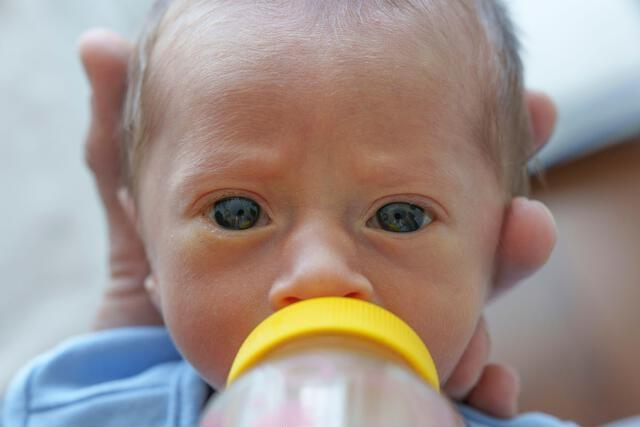Healthy: (114, 0, 544, 310)
